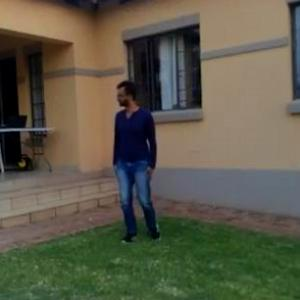follow: (105, 73, 159, 253)
